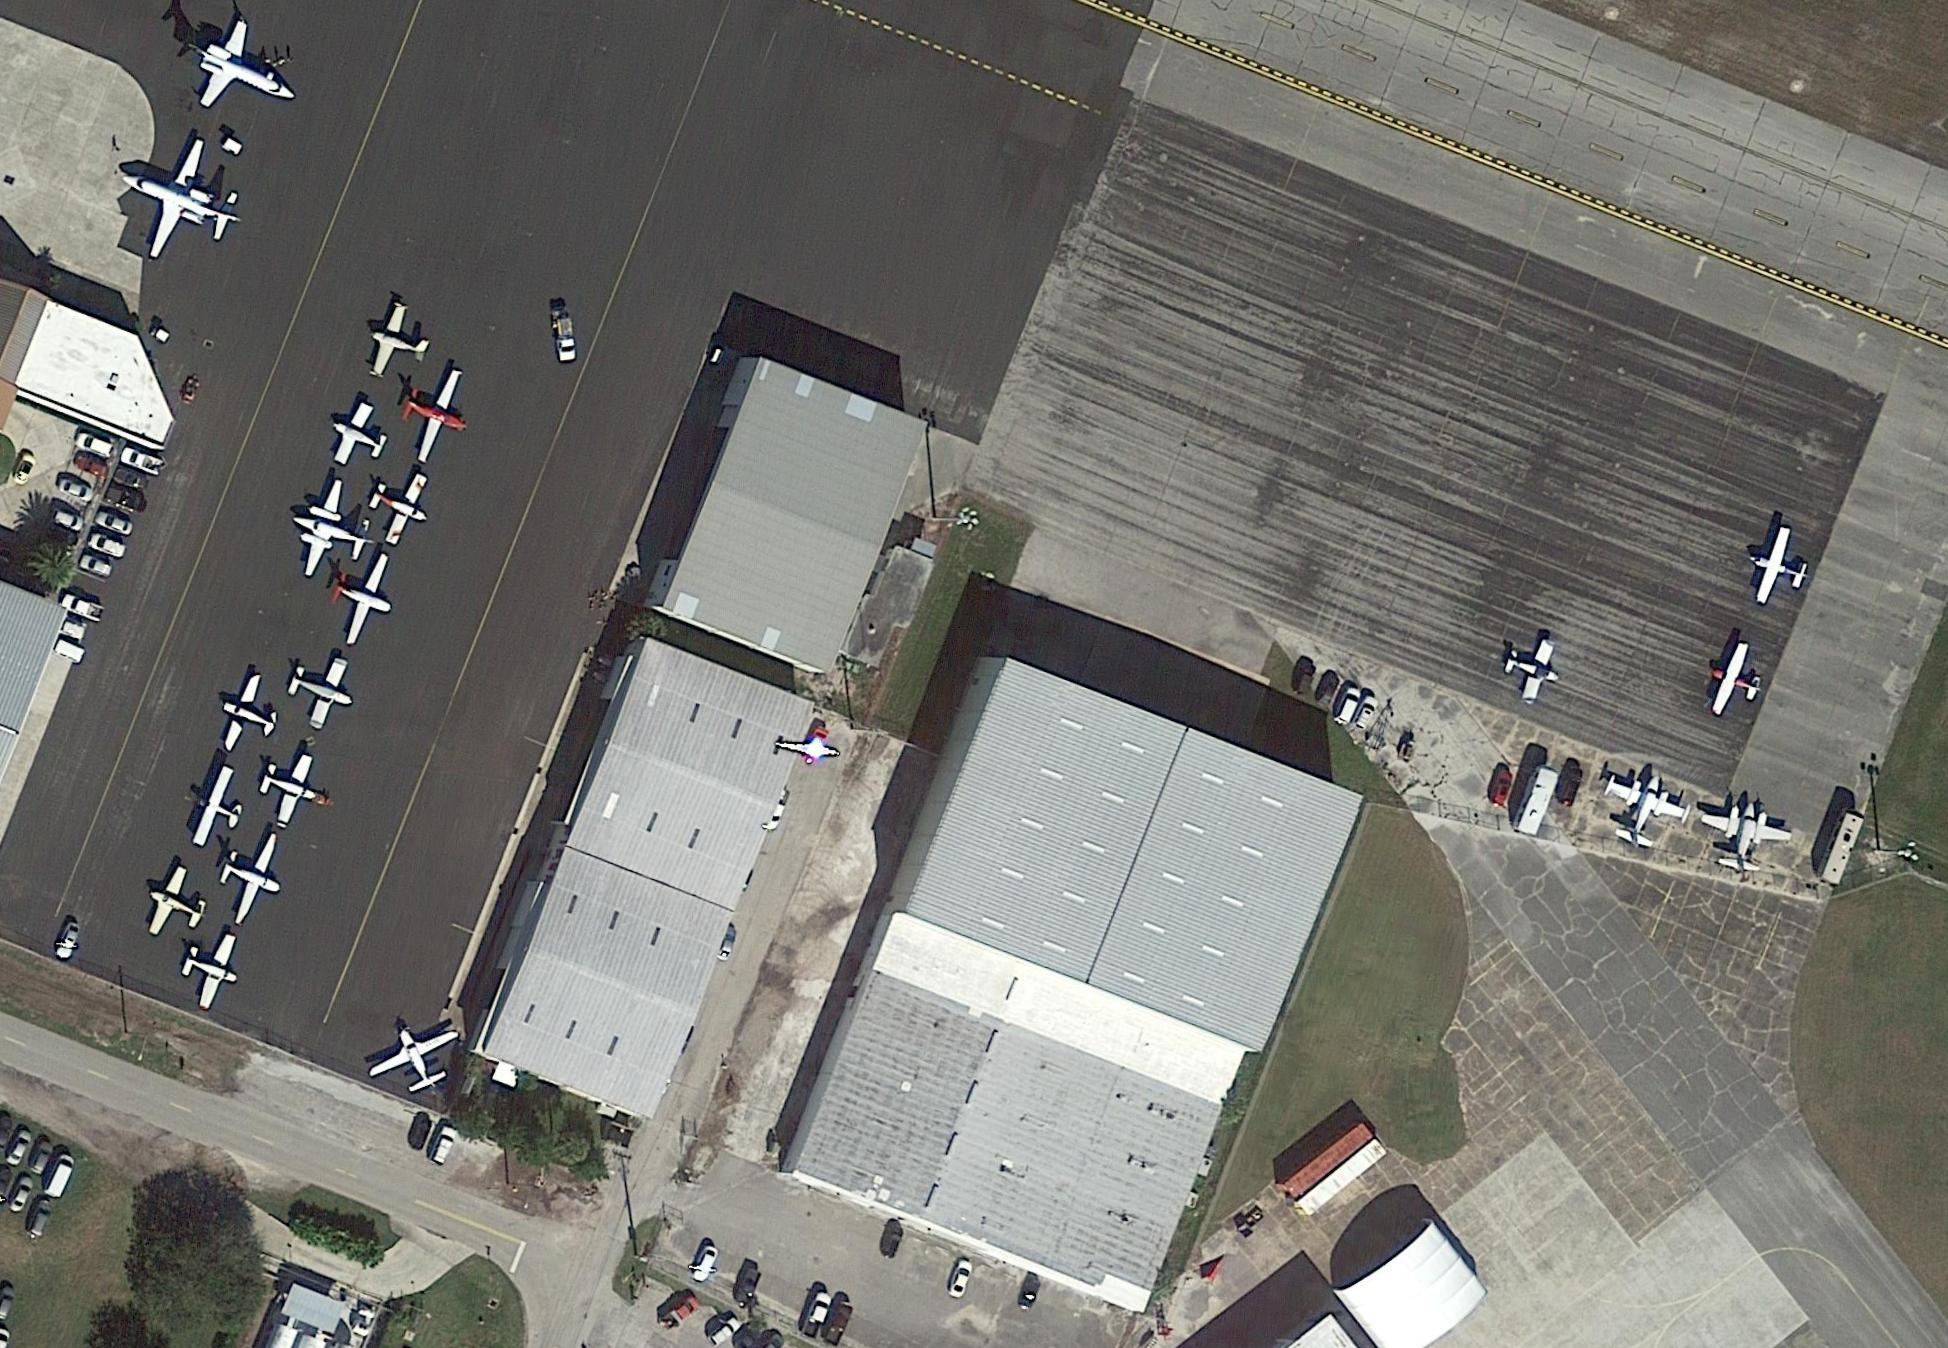plane: (98, 111, 261, 281), (185, 10, 314, 132), (275, 468, 391, 593), (355, 1011, 475, 1113), (1588, 758, 1701, 863), (207, 817, 300, 938), (386, 355, 483, 471), (315, 540, 409, 653), (249, 741, 348, 846), (1690, 792, 1797, 880), (280, 642, 364, 738), (357, 460, 443, 553), (133, 860, 221, 950), (172, 920, 252, 1017), (1739, 521, 1819, 616), (209, 667, 289, 762), (181, 761, 258, 855), (360, 300, 441, 389), (1699, 633, 1775, 727), (320, 394, 400, 476), (1494, 629, 1571, 712)
